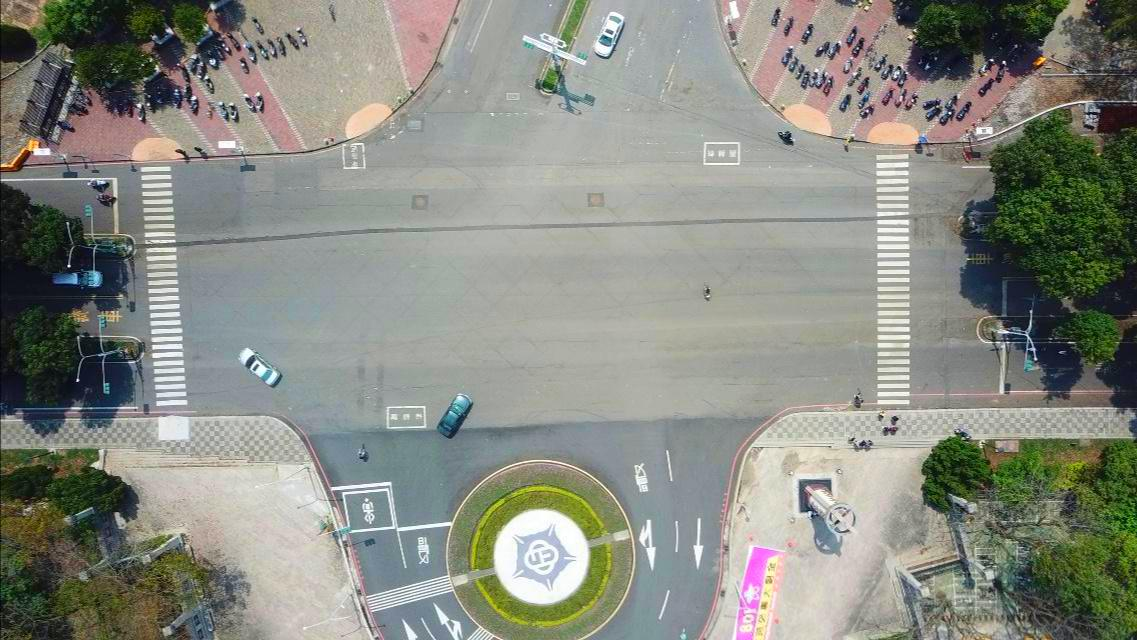vehicle: (236, 346, 282, 387), (436, 393, 475, 440), (592, 12, 627, 60), (51, 268, 103, 289)
